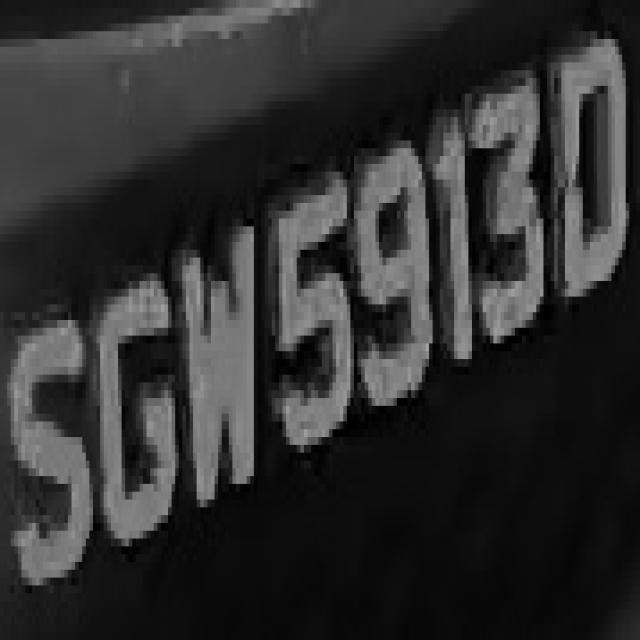1: (429, 102, 479, 390)
3: (465, 78, 547, 382)
5: (261, 172, 358, 468)
9: (340, 148, 440, 430)
D: (547, 31, 629, 320)
G: (82, 250, 190, 578)
S: (11, 289, 93, 601)
W: (172, 218, 264, 530)
